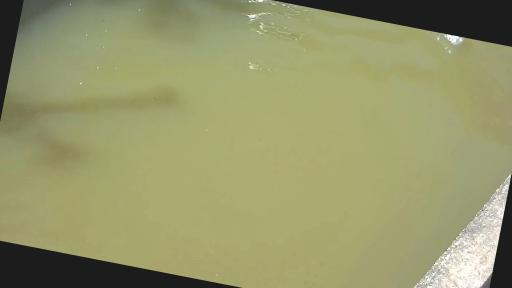plastic: (414, 29, 465, 52)
